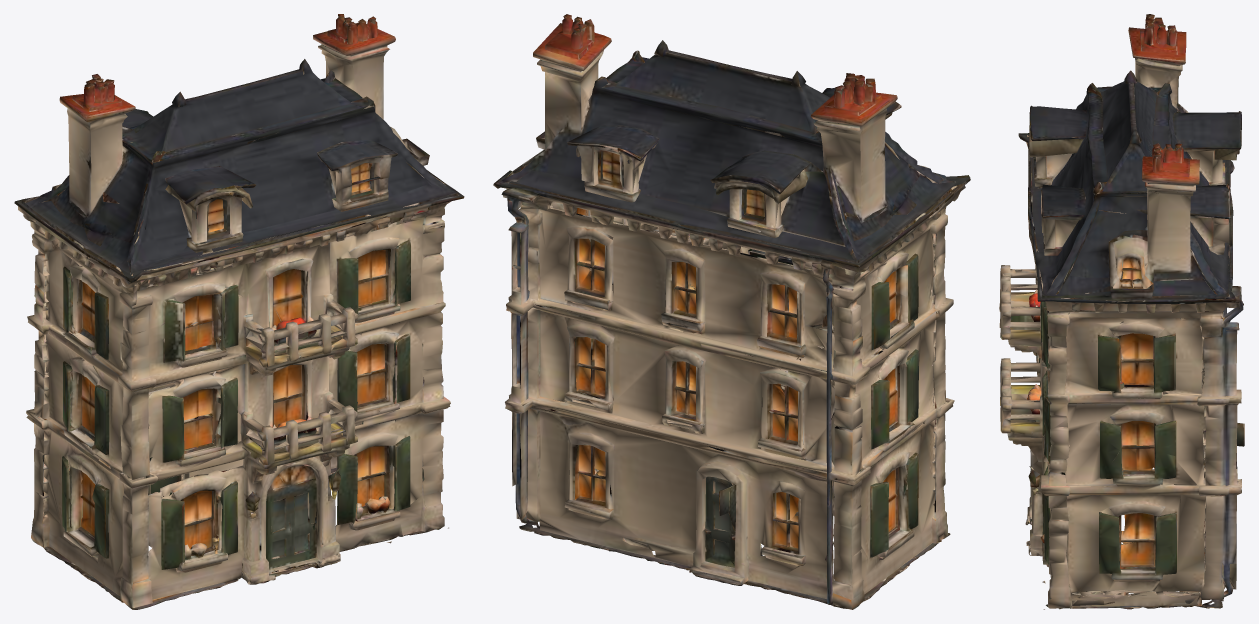
3 renders of one model, left to right at view 1: azimuth 30°, elevation 25°; view 2: azimuth 150°, elevation 25°; view 3: azimuth 270°, elevation 25°, orthographic. The views are drawn at different scales.
Visible parts, largest first — view 1: classic__villa_3__neural_lod; view 2: classic__villa_3__neural_lod; view 3: classic__villa_3__neural_lod.
Boxes of the visible parts, bbox=[...] form: classic__villa_3__neural_lod: bbox=[14, 14, 464, 609]; classic__villa_3__neural_lod: bbox=[493, 14, 970, 609]; classic__villa_3__neural_lod: bbox=[999, 14, 1244, 609].
Bounding box in the file's own units: 0.6869 × 0.8874 × 0.4339.
Materials: 1 (1 with a texture image).
